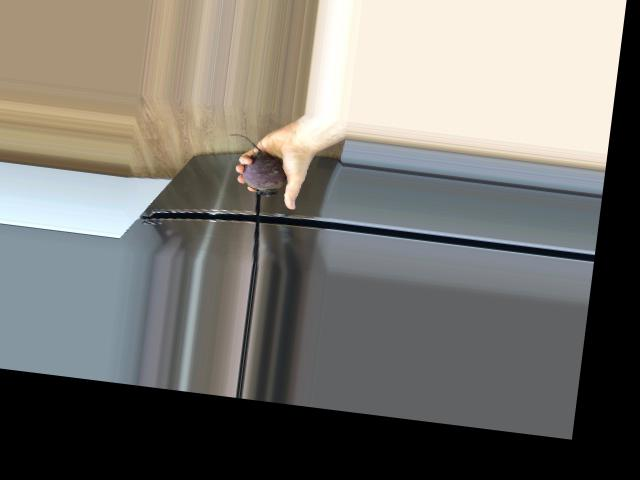beet: (221, 133, 291, 198)
